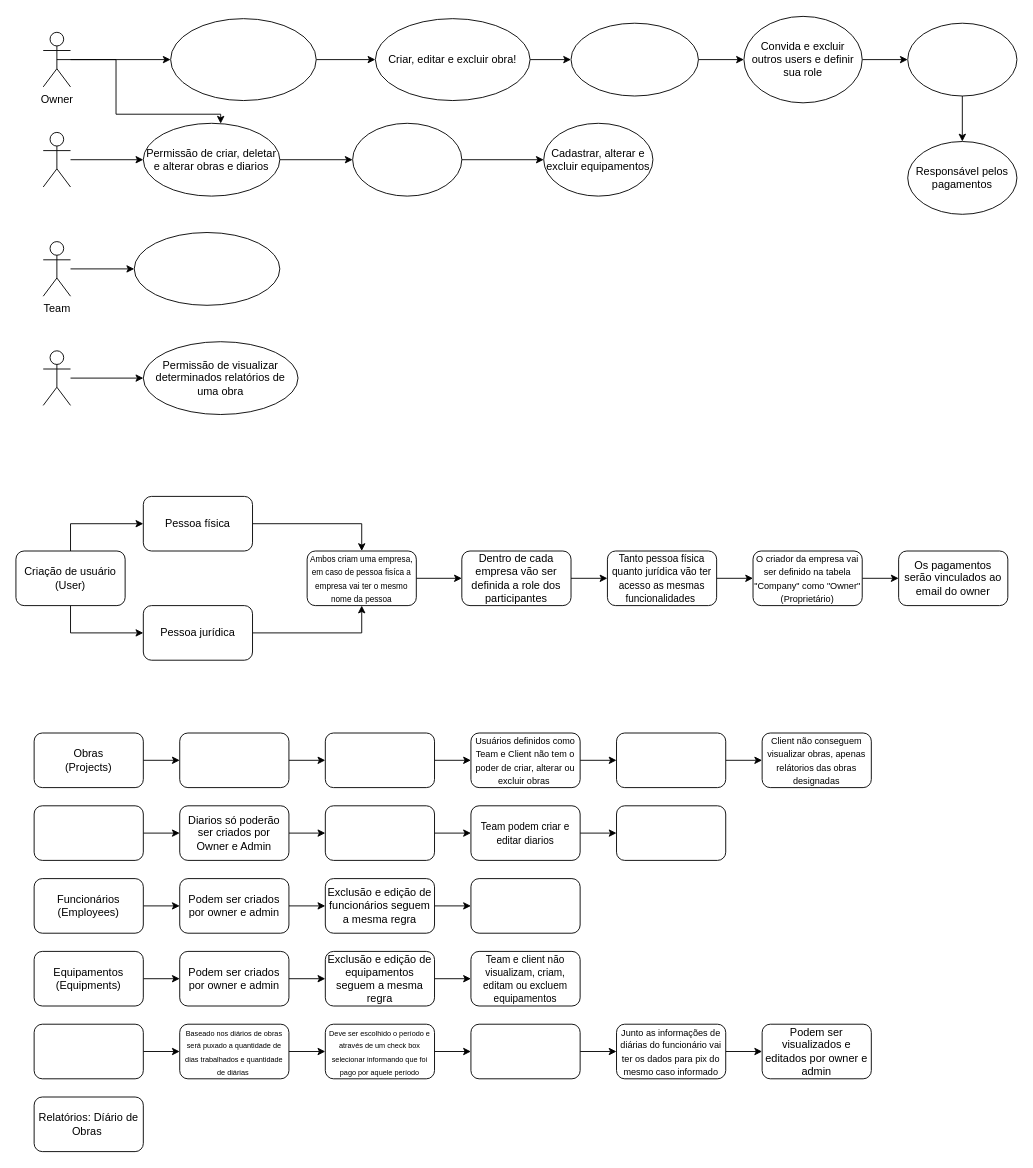
This 1033x1168 diagram has some shape labels left out. Each missing label, with the centre of its shape:
"Admin" belongs at (56,159).
"Cadastrar, alterar e excluir funcionários" belongs at (407,159).
"Client" belongs at (56,377).
"Client não tem permisão de visualizar, criar, editar ou excluir" belongs at (671,832).
"Criar conta no app!" belongs at (243,59).
"Criar, alterar e excluir Diário de Obra!" belongs at (634,59).
"Diário de Obras (Construction Log)" belongs at (88,832).
"Exclusão e edição de diarios seguem a mesma regra" belongs at (379,832).
"Exclusão e edição dessas obras seguem a mesma regra" belongs at (379,760).
"Obras só poderão ser criadas pelo owner e os usuários definidos como admin" belongs at (234,760).
"Permissão de criar diario de obras" belongs at (206,268).
"Pode ser exportada a folha de pagamento conforme período selecionado" belongs at (525,1051).
"Relatórios: Folha de pagamento funcionários" belongs at (88,1051).
"Team e client não visualizam, criam, editam ou excluem funcionários" belongs at (525,905).
"Team podem visualizar as obras" belongs at (671,760).
"Visualizar relatórios" belongs at (962,59).
